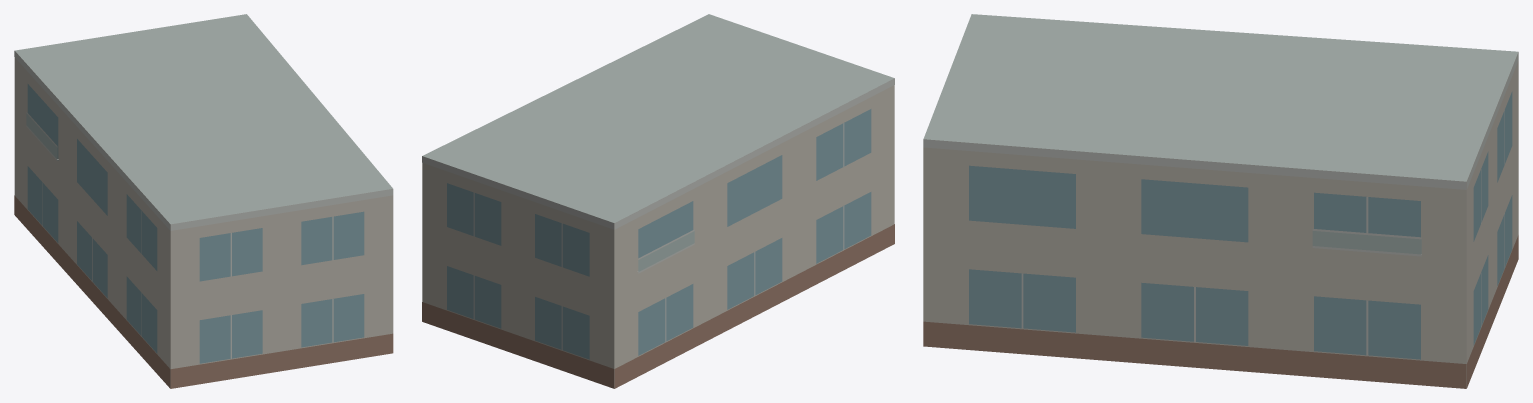
The model's file is survey-upis-32654776.glb.
3 views of the same model, side by side, from view 1: azimuth 30°, elevation 25°; view 2: azimuth 150°, elevation 25°; view 3: azimuth 270°, elevation 25° (orthographic). The views are drawn at different scales.
Visible parts, largest first — view 1: survey-upis-32654776.tmp; view 2: survey-upis-32654776.tmp; view 3: survey-upis-32654776.tmp.
Boxes of the visible parts, <box> form: survey-upis-32654776.tmp: <box>14,14,393,388</box>; survey-upis-32654776.tmp: <box>422,14,894,388</box>; survey-upis-32654776.tmp: <box>923,14,1518,388</box>.
Size of the model in its own units: 10.6 by 6.1 by 15.89.
